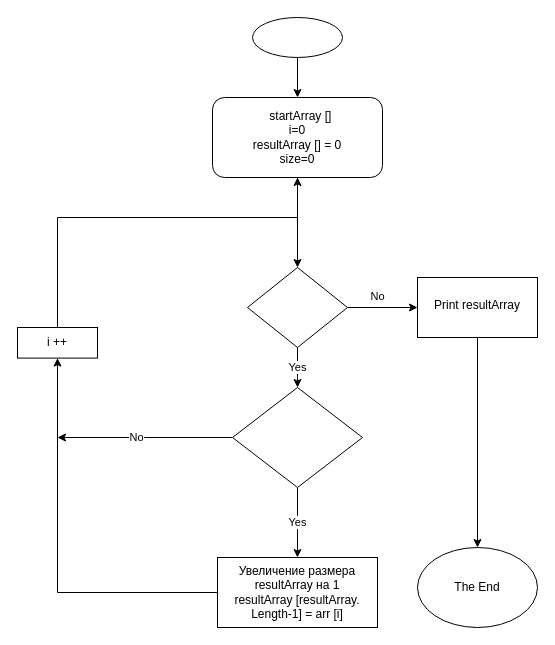
The diagram is 555 pixels wide and 645 high, and some of its shapes have lost their labels. The centre of each missing label's shape, as x and y in pixels:
"array [i].Length <=3?" goes at pixel 297 437.
"i<array.length?" goes at pixel 297 307.
"Start" goes at pixel 297 37.
